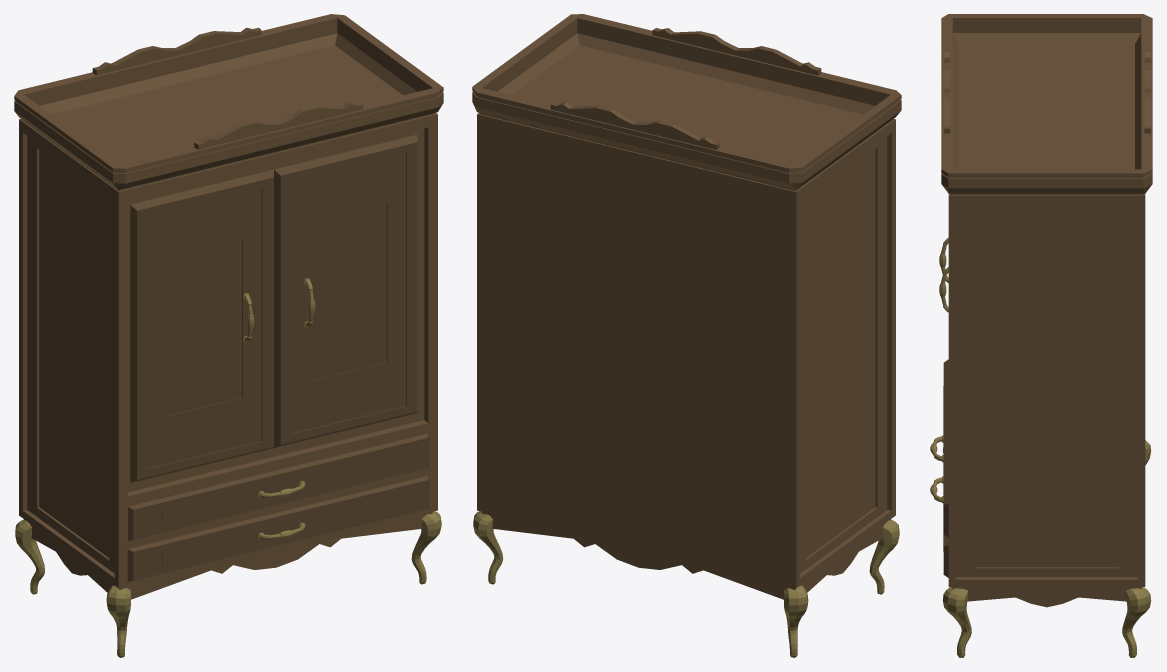
File: ShortCloset.glb
3 renders of one model, left to right at view 1: azimuth 30°, elevation 25°; view 2: azimuth 150°, elevation 25°; view 3: azimuth 270°, elevation 25°, orthographic.
Parts seen in each view (by area): view 1: ShortCloset; view 2: ShortCloset; view 3: ShortCloset.
Part boxes in pixels (x1,y1,x2,y2): ShortCloset: (14,14,443,657); ShortCloset: (472,14,901,657); ShortCloset: (930,14,1152,657).
Size of the model in its own units: 1.03 by 1.51 by 0.603.
Materials: 3 (3 with a texture image).
